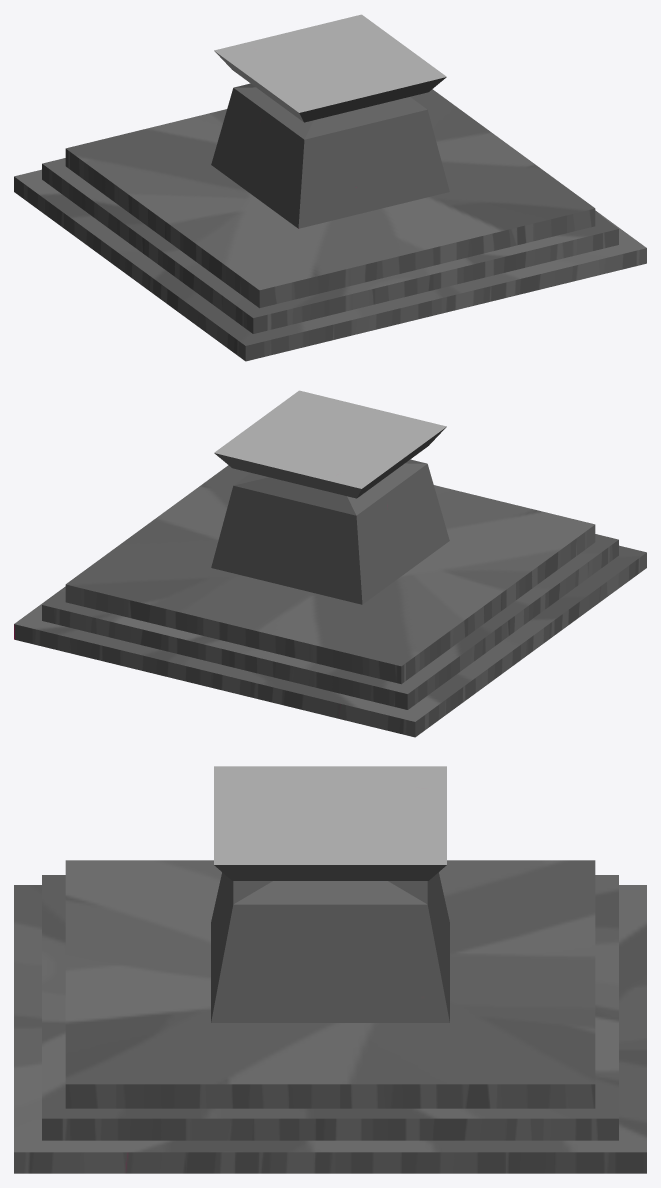
File: Pedestal.fbx
The picture shows the model from 3 angles, top to bottom: view 1: azimuth 30°, elevation 25°; view 2: azimuth 150°, elevation 25°; view 3: azimuth 270°, elevation 25°; orthographic projection. The views are drawn at different scales.
Parts seen in each view (by area): view 1: pCube1; view 2: pCube1; view 3: pCube1.
Boxes of the visible parts, x1=… form: pCube1: x1=14, y1=14, x2=646, y2=361; pCube1: x1=14, y1=390, x2=646, y2=737; pCube1: x1=14, y1=766, x2=646, y2=1173.
Size of the model in its own units: 24 by 9.37 by 24.
